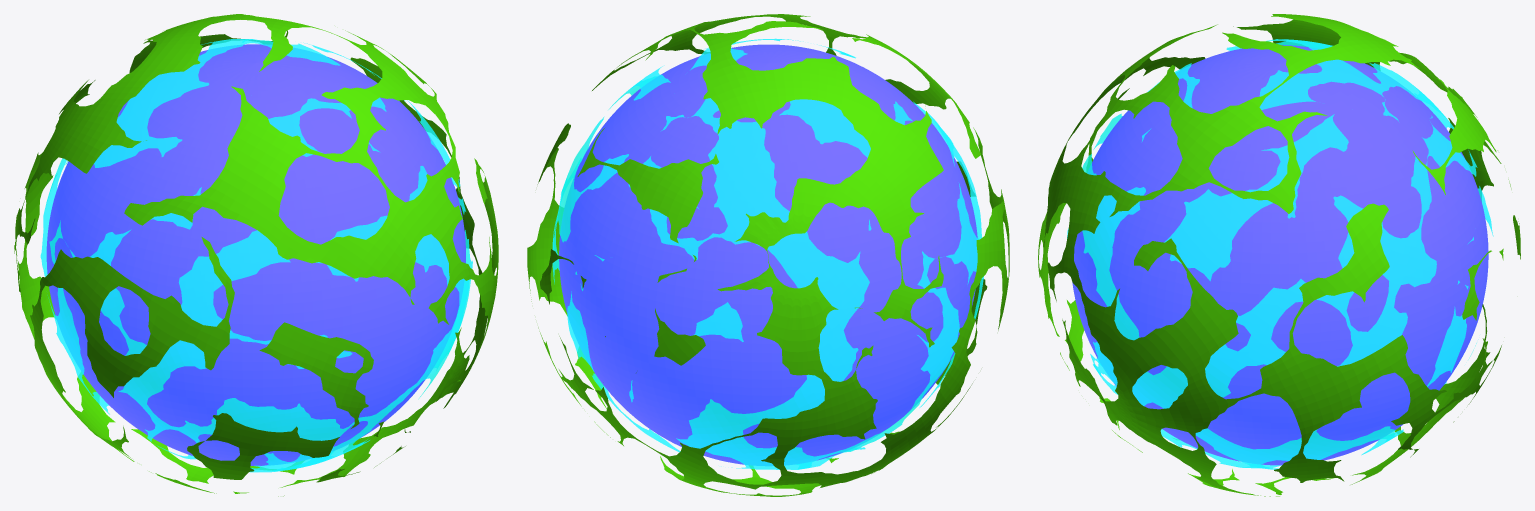
Rendered from GreenWater.fbx.
3 renders of one model, left to right at view 1: azimuth 30°, elevation 25°; view 2: azimuth 150°, elevation 25°; view 3: azimuth 270°, elevation 25°, orthographic.
Parts seen in each view (by area): view 1: Sphere.005, Sphere.003, Sphere.004; view 2: Sphere.005, Sphere.003, Sphere.004; view 3: Sphere.005, Sphere.003, Sphere.004.
Part boxes in pixels (<box>): Sphere.005: <box>46,44,465,465</box>; Sphere.003: <box>14,14,498,496</box>; Sphere.004: <box>40,39,472,472</box>; Sphere.005: <box>559,44,977,465</box>; Sphere.003: <box>527,14,1009,496</box>; Sphere.004: <box>552,38,983,469</box>; Sphere.005: <box>1072,45,1488,465</box>; Sphere.003: <box>1038,14,1520,496</box>; Sphere.004: <box>1067,39,1493,469</box>.
Size of the model in its own units: 198 by 198 by 198.
